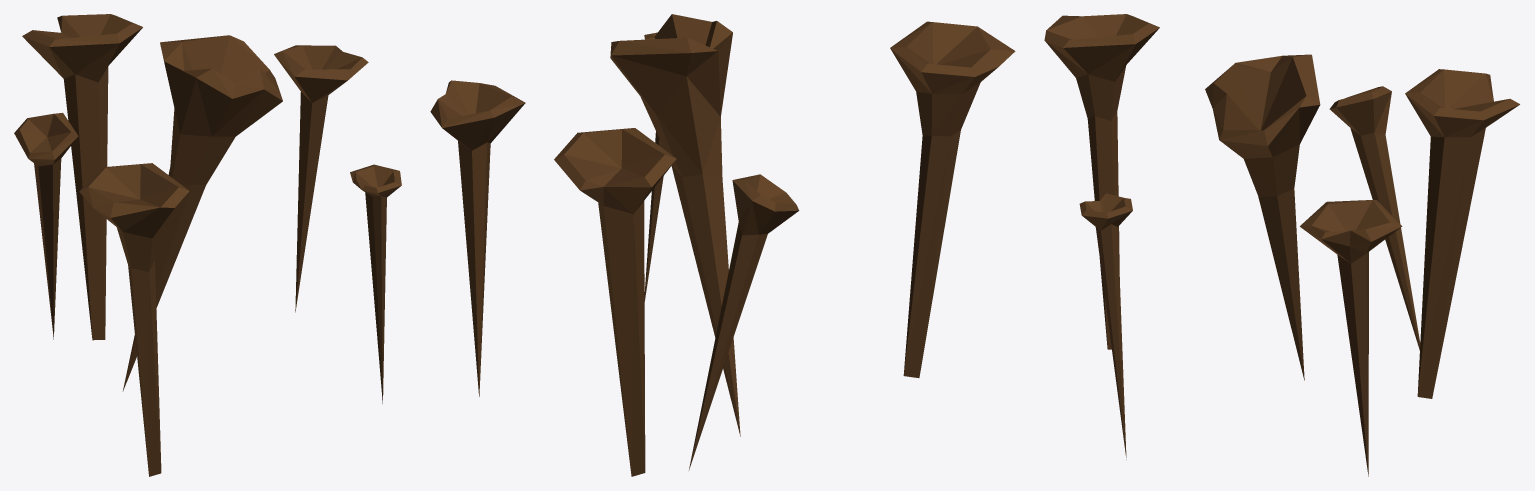
The model's file is SM_Mushroom_Chanterelle_Mature_B.fbx.
3 renders of one model, left to right at view 1: azimuth 30°, elevation 25°; view 2: azimuth 150°, elevation 25°; view 3: azimuth 270°, elevation 25°, orthographic. The views are drawn at different scales.
Parts seen in each view (by area): view 1: mushroom-chanterelle-mature-b; view 2: mushroom-chanterelle-mature-b; view 3: mushroom-chanterelle-mature-b.
Part boxes in pixels (bbox=[...]): mushroom-chanterelle-mature-b: bbox=[14, 14, 401, 476]; mushroom-chanterelle-mature-b: bbox=[430, 14, 1015, 476]; mushroom-chanterelle-mature-b: bbox=[1044, 14, 1519, 476].
Size of the model in its own units: 0.4981 by 0.4227 by 0.5182.
